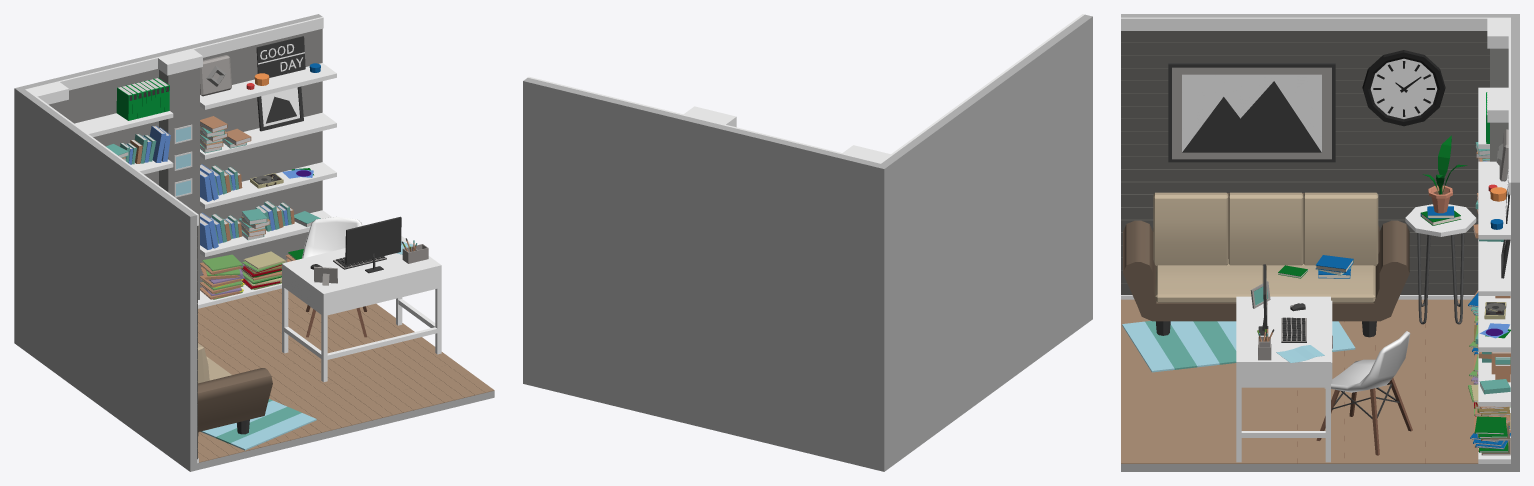
Rendered from office.gltf.
3 views of the same model, side by side, from view 1: azimuth 30°, elevation 25°; view 2: azimuth 150°, elevation 25°; view 3: azimuth 270°, elevation 25° (orthographic). The views are drawn at different scales.
Visible parts, largest first — view 1: Object_3, Object_2, Object_4; view 2: Object_3; view 3: Object_2, Object_3, Object_4.
Part boxes in pixels (left/top/right/bottom): Object_3: left=14, top=14, right=494, bottom=471; Object_2: left=198, top=36, right=494, bottom=462; Object_4: left=116, top=77, right=428, bottom=383; Object_3: left=523, top=14, right=1092, bottom=471; Object_2: left=1121, top=50, right=1510, bottom=463; Object_3: left=1121, top=14, right=1519, bottom=471; Object_4: left=1123, top=92, right=1510, bottom=362.
Bounding box in the file's own units: 503 × 401 × 500.
Materials: 1 (1 with a texture image).
